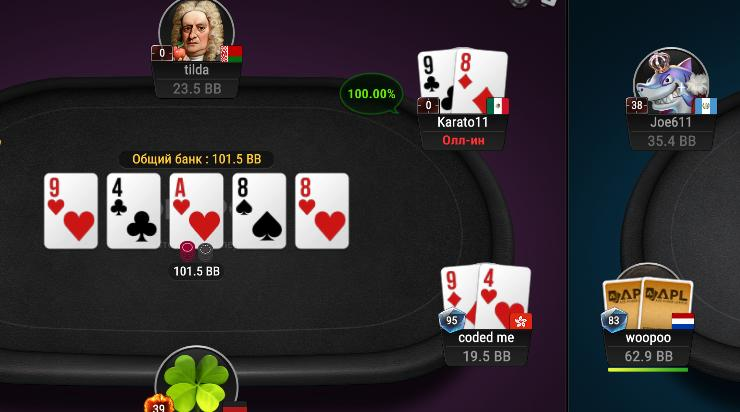4c: (106, 174, 160, 247)
4h: (479, 263, 531, 332)
8d: (456, 46, 506, 114)
8h: (297, 175, 348, 247)
8s: (233, 175, 285, 248)
9c: (418, 48, 455, 113)
9d: (439, 265, 480, 330)
9h: (45, 173, 98, 247)
Ah: (171, 173, 222, 248)
